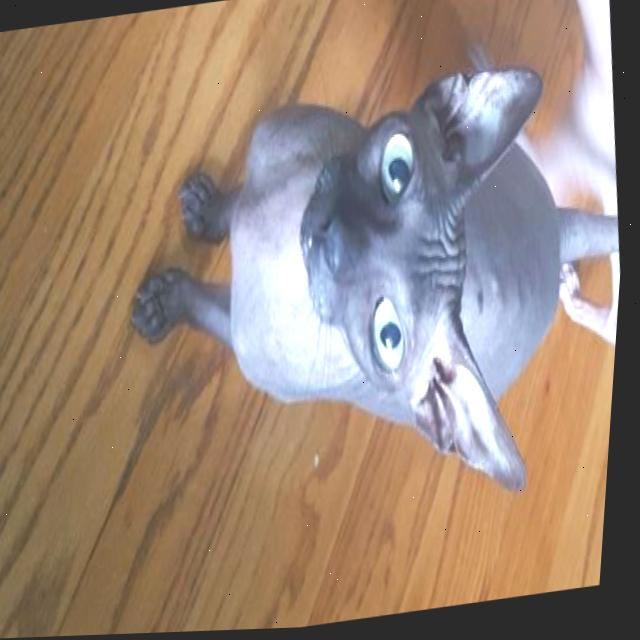Sphynx: (93, 37, 637, 551)
